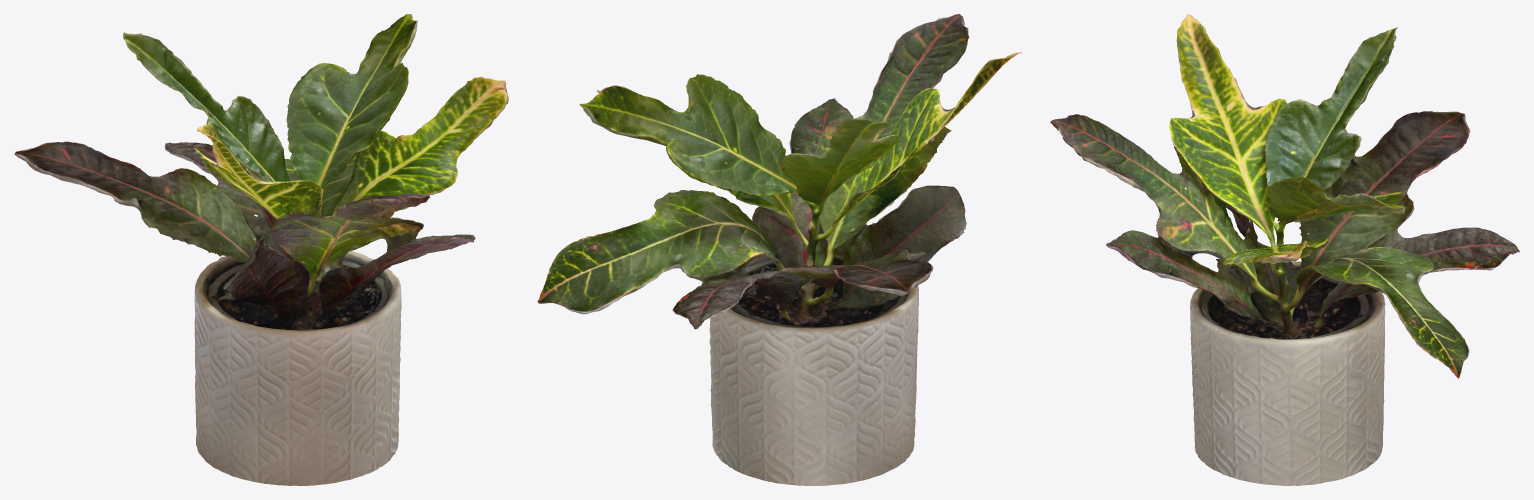
File: desk_plant.glb
The picture shows the model from 3 angles, left to right: view 1: azimuth 30°, elevation 25°; view 2: azimuth 150°, elevation 25°; view 3: azimuth 270°, elevation 25°; orthographic projection. The views are drawn at different scales.
Parts seen in each view (by area): view 1: Object_4; view 2: Object_4; view 3: Object_4.
Part boxes in pixels (bbox=[...]): Object_4: bbox=[14, 14, 508, 485]; Object_4: bbox=[537, 14, 1021, 485]; Object_4: bbox=[1050, 14, 1519, 485].
Size of the model in its own units: 0.3035 by 0.2849 by 0.3302.
1 material, 1 textured.
